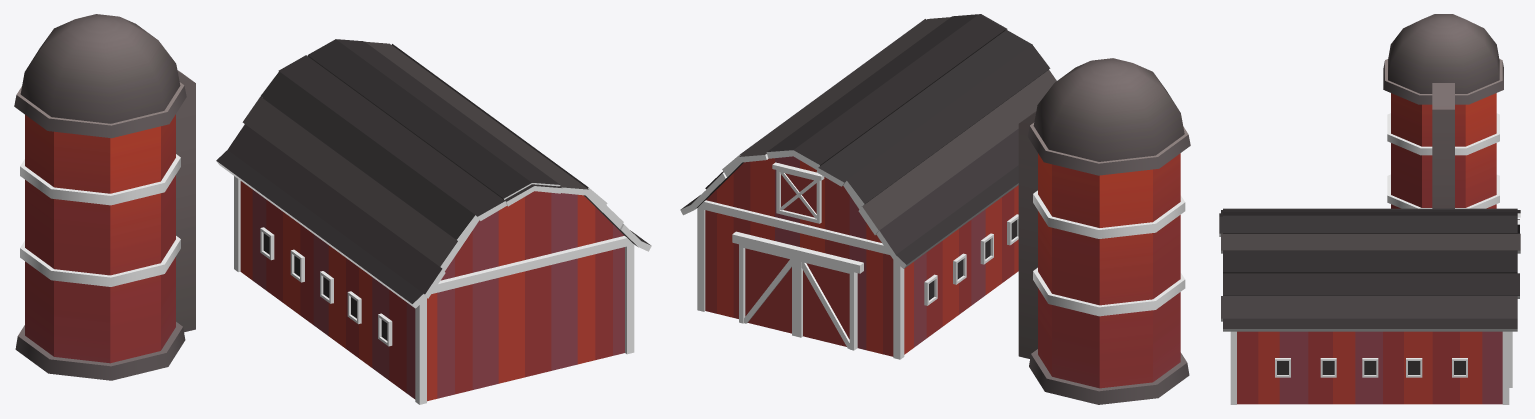
The model's file is nha may.fbx.
3 renders of one model, left to right at view 1: azimuth 30°, elevation 25°; view 2: azimuth 150°, elevation 25°; view 3: azimuth 270°, elevation 25°, orthographic. The views are drawn at different scales.
Parts seen in each view (by area): view 1: Barn, Sphere.001; view 2: Barn, Sphere.001; view 3: Barn, Sphere.001.
Boxes of the visible parts, x1,y1,x2,y2 form: Barn: (216,39,651,404); Sphere.001: (14,14,195,380); Barn: (680,14,1056,359); Sphere.001: (1018,58,1190,404); Barn: (1219,208,1520,404); Sphere.001: (1383,14,1503,208).
Size of the model in its own units: 808 by 528 by 592.
